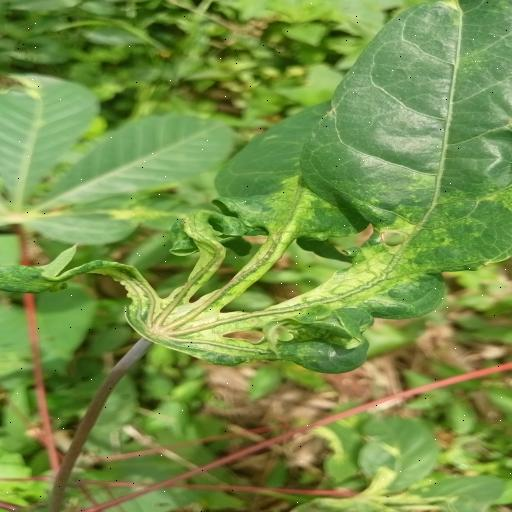Cassava_Mosaic: (0, 0, 512, 373)
